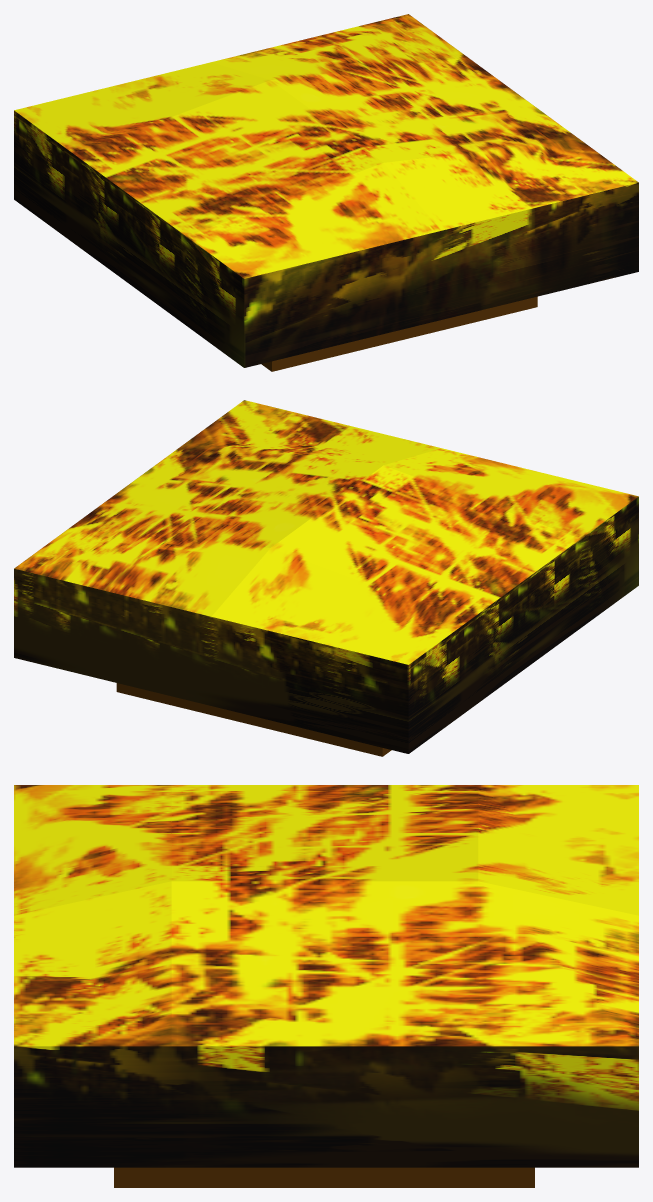
File: Firstnest.fbx
The picture shows the model from 3 angles, top to bottom: view 1: azimuth 30°, elevation 25°; view 2: azimuth 150°, elevation 25°; view 3: azimuth 270°, elevation 25°; orthographic projection. The views are drawn at different scales.
Visible parts, largest first — view 1: Base, Nest; view 2: Base, Nest; view 3: Base, Nest.
Boxes of the visible parts, x1,y1,x2,y2 form: Base: (14,14,638,367); Nest: (261,296,537,371); Base: (14,400,638,753); Nest: (116,683,391,756); Base: (14,785,638,1167); Nest: (114,1167,534,1187).
Size of the model in its own units: 292 by 114 by 295.
Materials: 2 (1 with a texture image).
